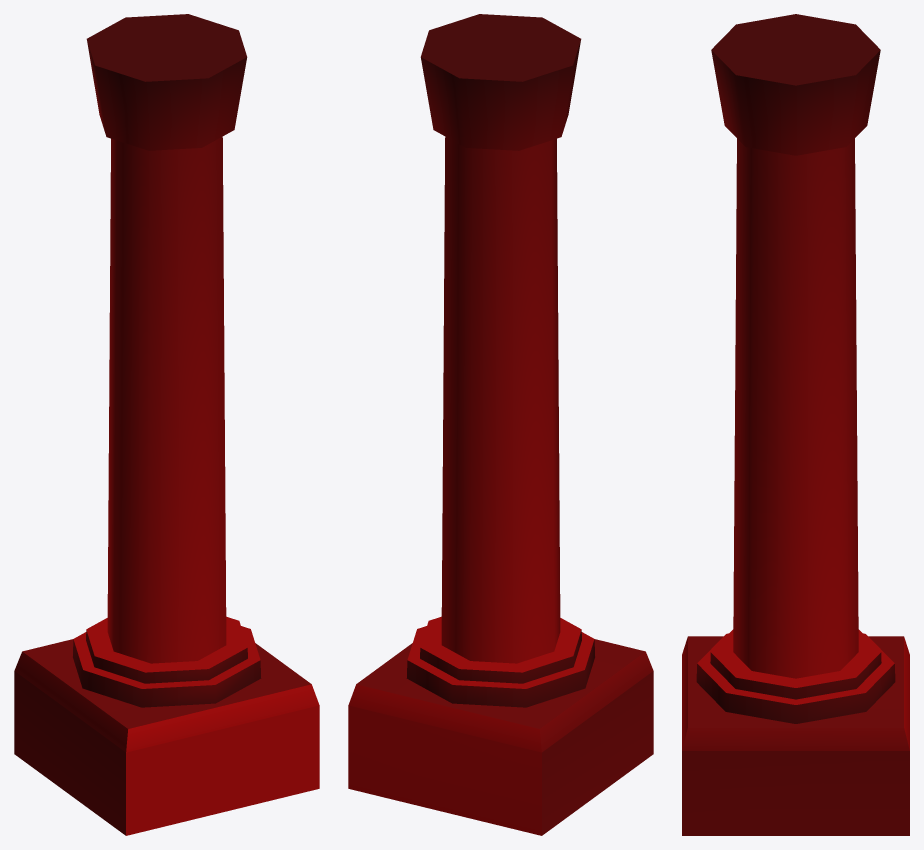
File: buildings-ruins-ancientruins_v1.fbx
3 views of the same model, side by side, from view 1: azimuth 30°, elevation 25°; view 2: azimuth 150°, elevation 25°; view 3: azimuth 270°, elevation 25° (orthographic).
Visible parts, largest first — view 1: AncientRuins_v1; view 2: AncientRuins_v1; view 3: AncientRuins_v1.
Part boxes in pixels (bbox=[...]): AncientRuins_v1: bbox=[14, 14, 319, 835]; AncientRuins_v1: bbox=[348, 14, 653, 835]; AncientRuins_v1: bbox=[682, 14, 909, 835].
Size of the model in its own units: 1.43 by 5.1 by 1.43.
